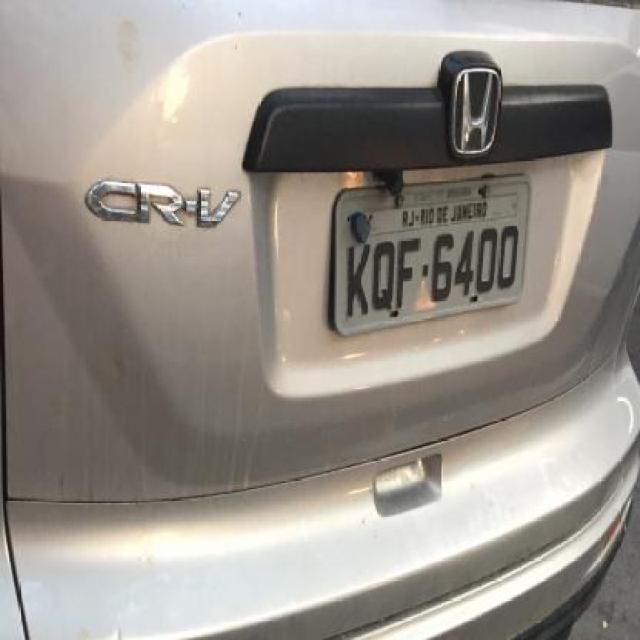old_plate: (322, 166, 544, 345)
